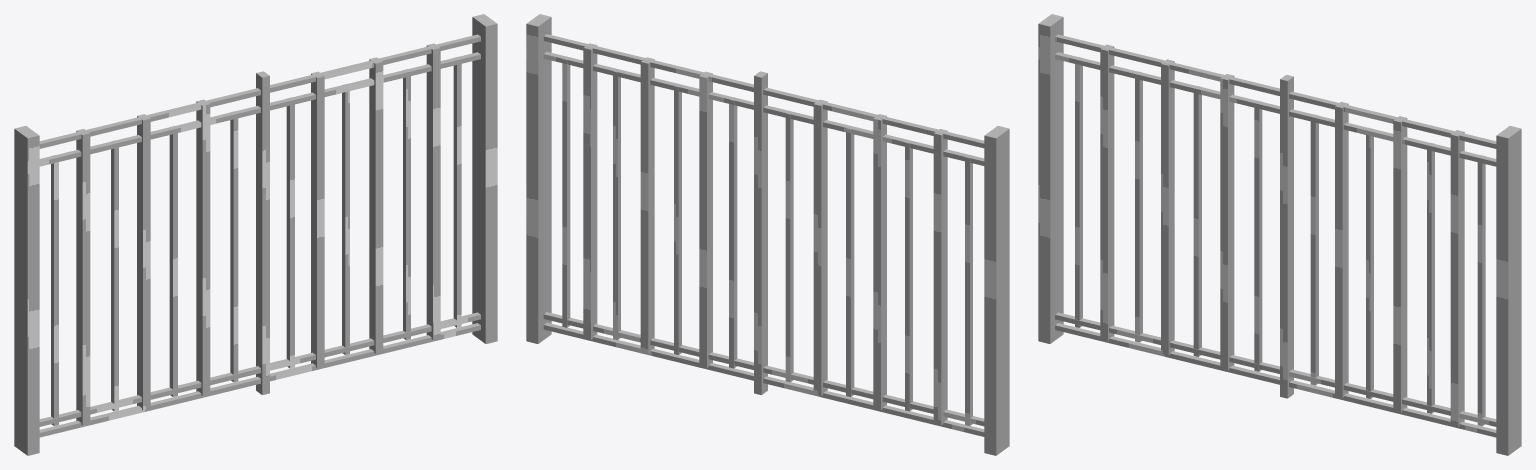
Rendered from Portail.glb.
3 views of the same model, side by side, from view 1: azimuth 30°, elevation 25°; view 2: azimuth 150°, elevation 25°; view 3: azimuth 330°, elevation 25° (orthographic).
Parts seen in each view (by area): view 1: Cube.012; view 2: Cube.012; view 3: Cube.012.
Part boxes in pixels (box(x1,y1,x2,y2)): Cube.012: box(14, 14, 497, 455); Cube.012: box(526, 14, 1009, 455); Cube.012: box(1038, 14, 1521, 455).
Size of the model in its own units: 6.96 by 4.49 by 0.3441.
Materials: 1 (1 with a texture image).
